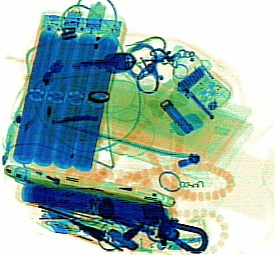lighter: (2, 160, 85, 196)
powerbank: (11, 10, 126, 172), (16, 181, 170, 232)
